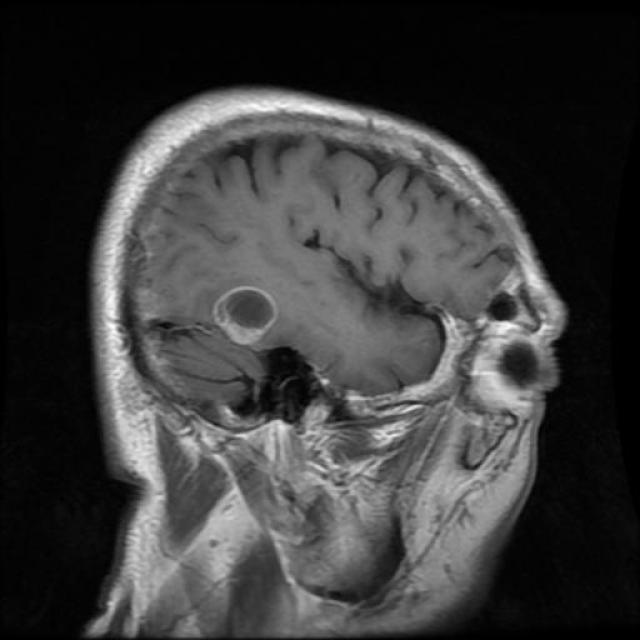glioma: (208, 284, 282, 348)
